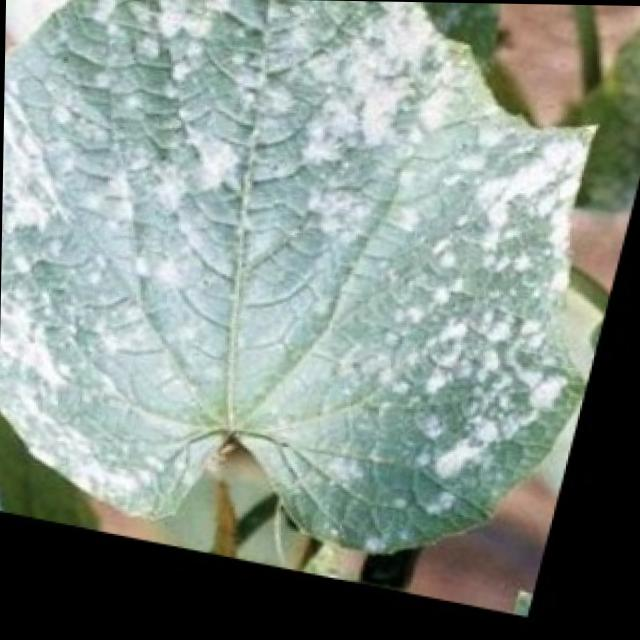Powdery_Mildew: (9, 0, 611, 557)
